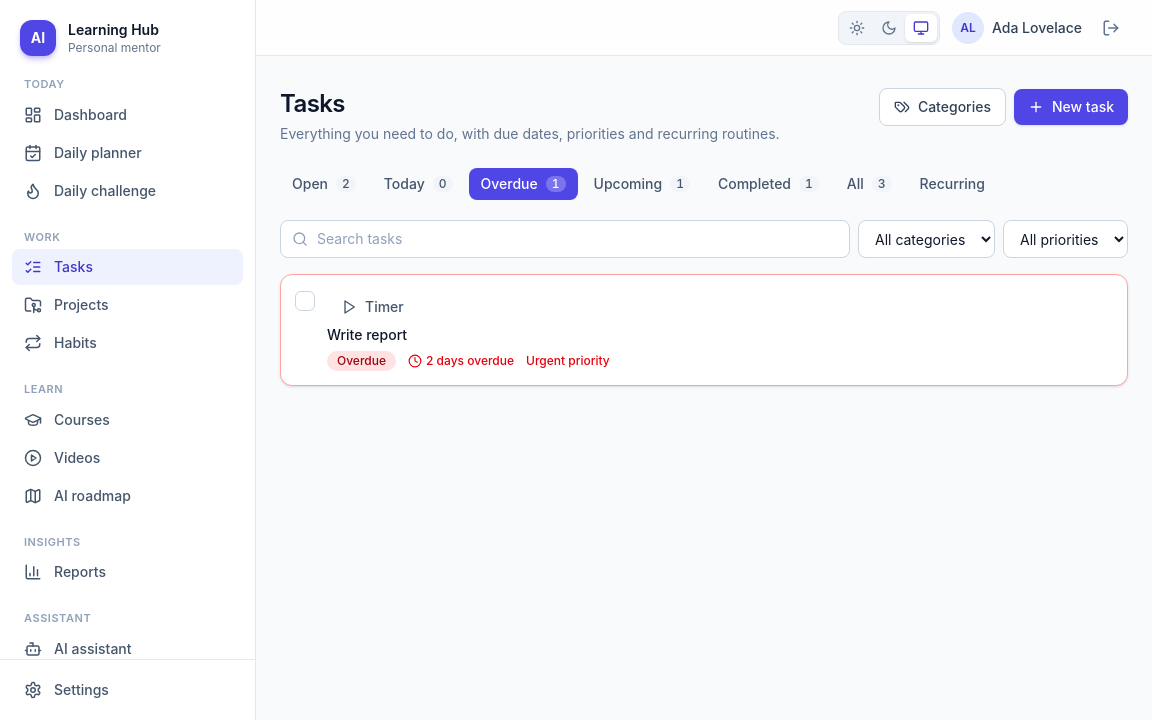
task list › opens on the tab named in the URL and switching tabs asks the server for that view
The width and height of the screenshot is (1152, 720).
Check: the heading "Tasks" is shown, box [280,89,345,118]
Check: the button "Write report" is shown, box [327,325,1043,345]
Click the tab "Completed 1": {"x": 768, "y": 184} [706,168,831,200]
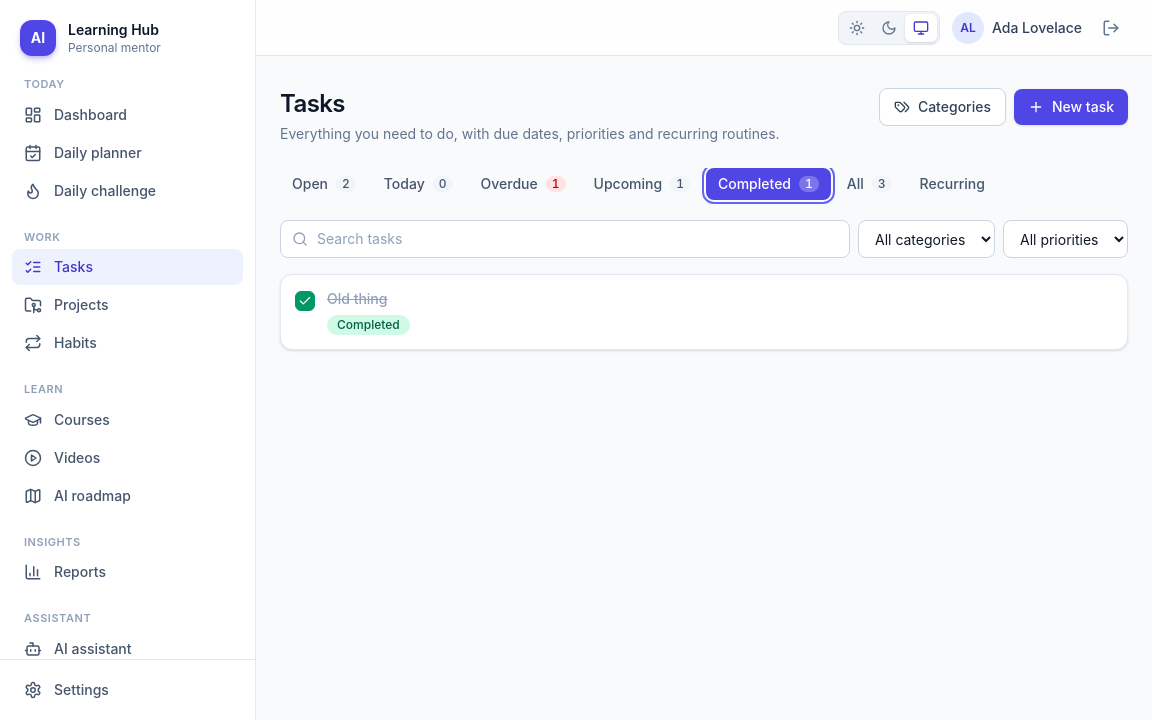
Check: the button "Old thing" is shown, box [327,289,1043,309]
